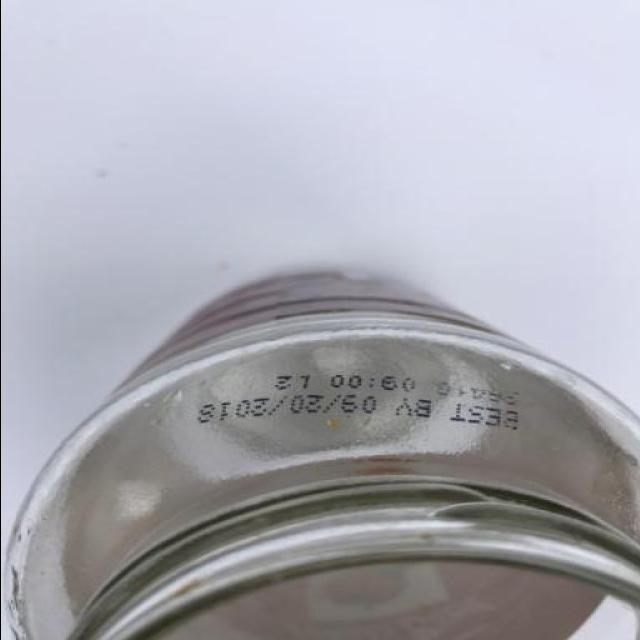Glass Bottle: (1, 276, 636, 638)
